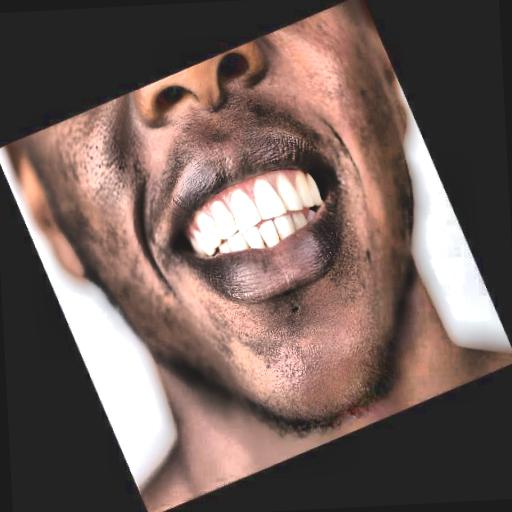Healthy: (138, 120, 370, 315)
